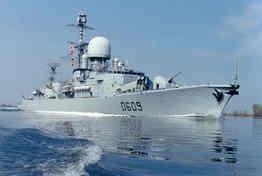warship: (21, 7, 241, 116)
